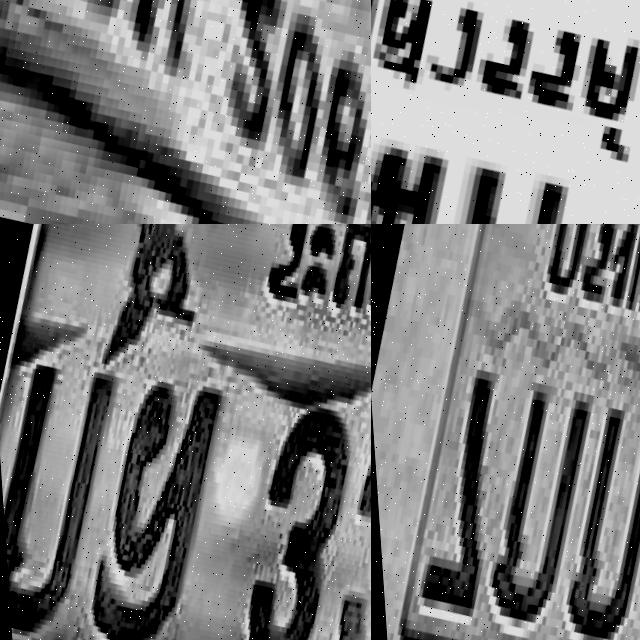license-plate: (0, 224, 371, 640), (371, 224, 640, 640), (0, 0, 371, 224), (371, 0, 640, 224)
